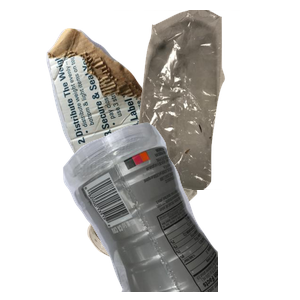cardboard: (44, 26, 209, 186)
glass: (85, 141, 275, 300)
plastic: (60, 120, 300, 300)
trash: (114, 10, 300, 190)
